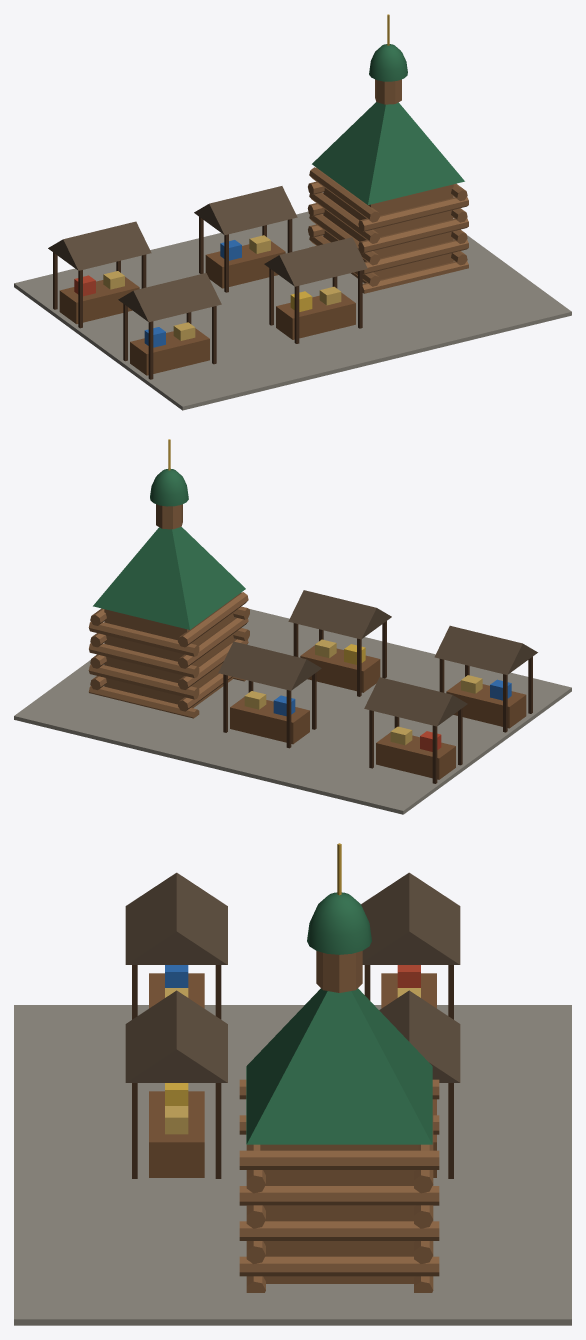
Rendered from market.glb.
3 renders of one model, top to bottom at view 1: azimuth 30°, elevation 25°; view 2: azimuth 150°, elevation 25°; view 3: azimuth 270°, elevation 25°, orthographic. The views are drawn at different scales.
Parts seen in each view (by area): view 1: Market; view 2: Market; view 3: Market.
Boxes of the visible parts, x1,y1,x2,y2 form: Market: [14, 14, 571, 410]; Market: [14, 439, 571, 814]; Market: [14, 843, 571, 1325].
Size of the model in its own units: 16 by 9.8 by 12.
